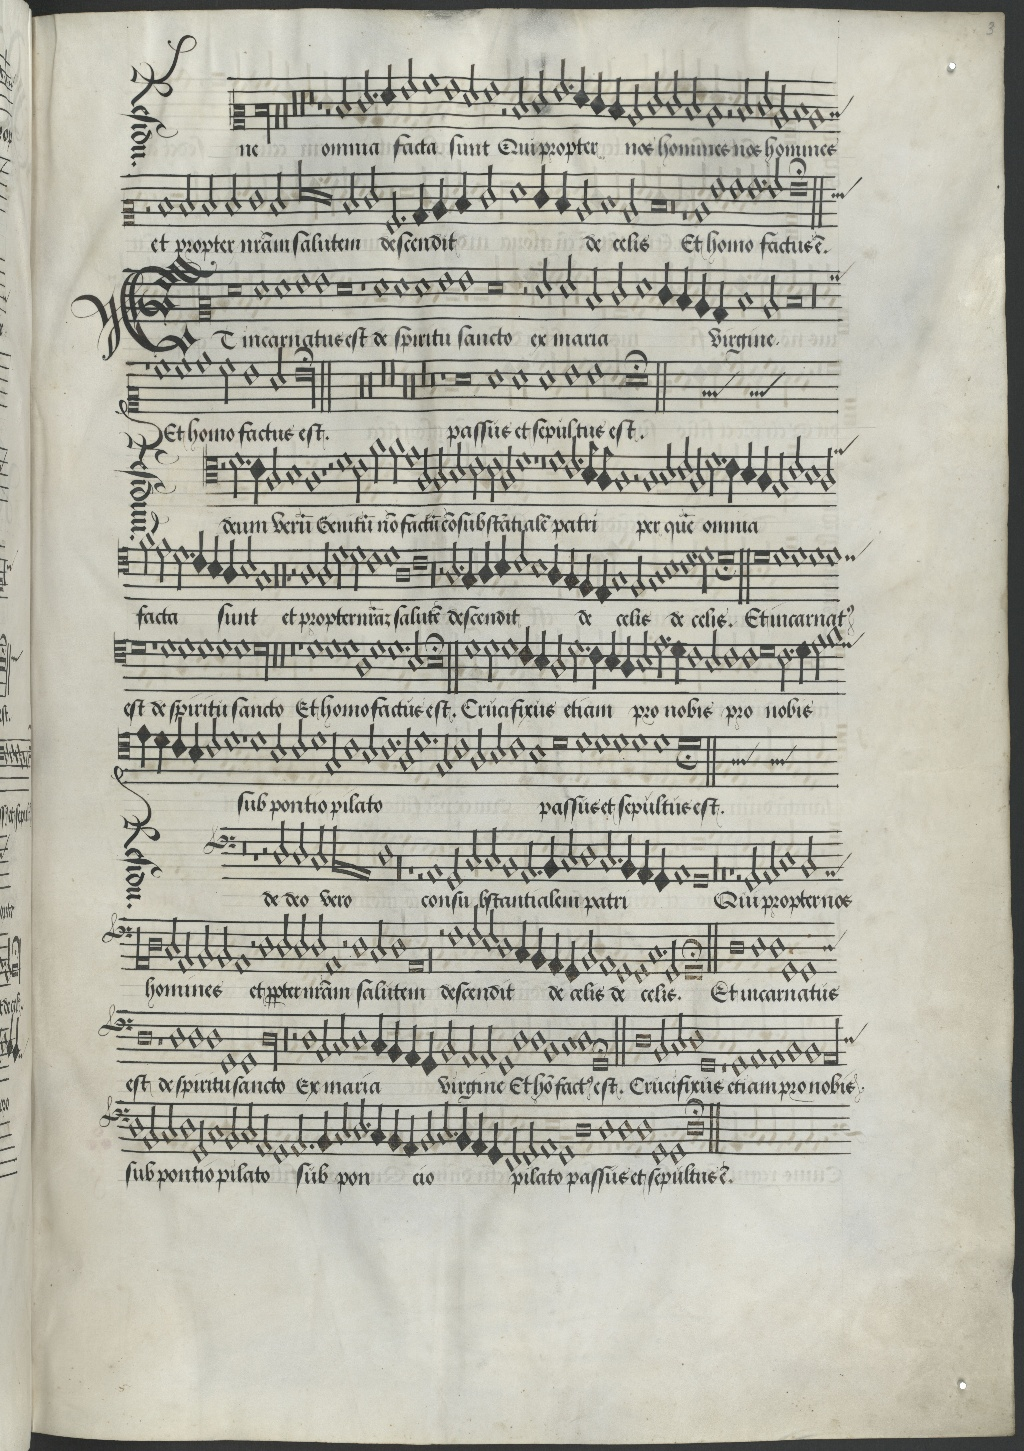barline: (705, 1095, 725, 1161)
breve_7: (569, 1114, 595, 1146), (682, 1114, 708, 1143)
f clef_5: (98, 1093, 129, 1135)
fermata: (677, 1089, 708, 1123)
minim_10: (290, 1105, 308, 1164)
minim_11: (190, 1113, 209, 1169), (256, 1107, 274, 1162), (522, 1114, 540, 1170)
minim_12: (503, 1120, 523, 1176)
minim_7: (351, 1092, 367, 1148)
minim_8: (160, 1095, 178, 1152), (334, 1095, 352, 1152), (436, 1095, 453, 1152), (240, 1095, 258, 1150)
minim_9: (142, 1099, 161, 1157), (223, 1099, 240, 1157), (418, 1102, 436, 1157)
point: (359, 1114, 373, 1134), (446, 1123, 460, 1143), (303, 1138, 317, 1156)
semibreve_10: (537, 1130, 553, 1166)
semibreve_11: (648, 1135, 670, 1173), (556, 1138, 578, 1173), (668, 1135, 689, 1171), (270, 1138, 290, 1171)
semibreve_7: (634, 1109, 656, 1148), (595, 1111, 616, 1149), (615, 1111, 636, 1149), (178, 1109, 197, 1145), (126, 1110, 144, 1144)
semibreve_8: (206, 1116, 224, 1150)
semiminim_10: (402, 1107, 419, 1165), (472, 1105, 488, 1164)
semiminim_11: (487, 1114, 503, 1170)
semiminim_8: (371, 1098, 388, 1153)
semiminim_9: (316, 1102, 334, 1162), (455, 1099, 473, 1157), (386, 1101, 402, 1159)
